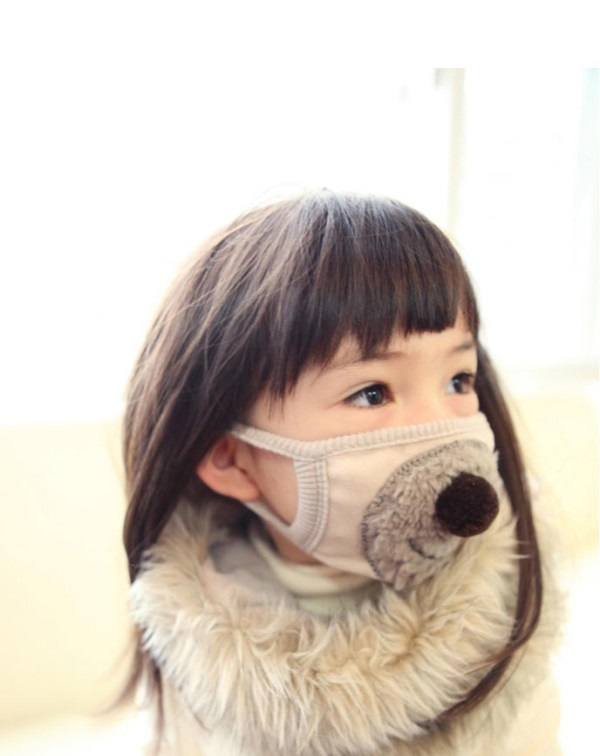face_mask: (261, 270, 492, 606)
